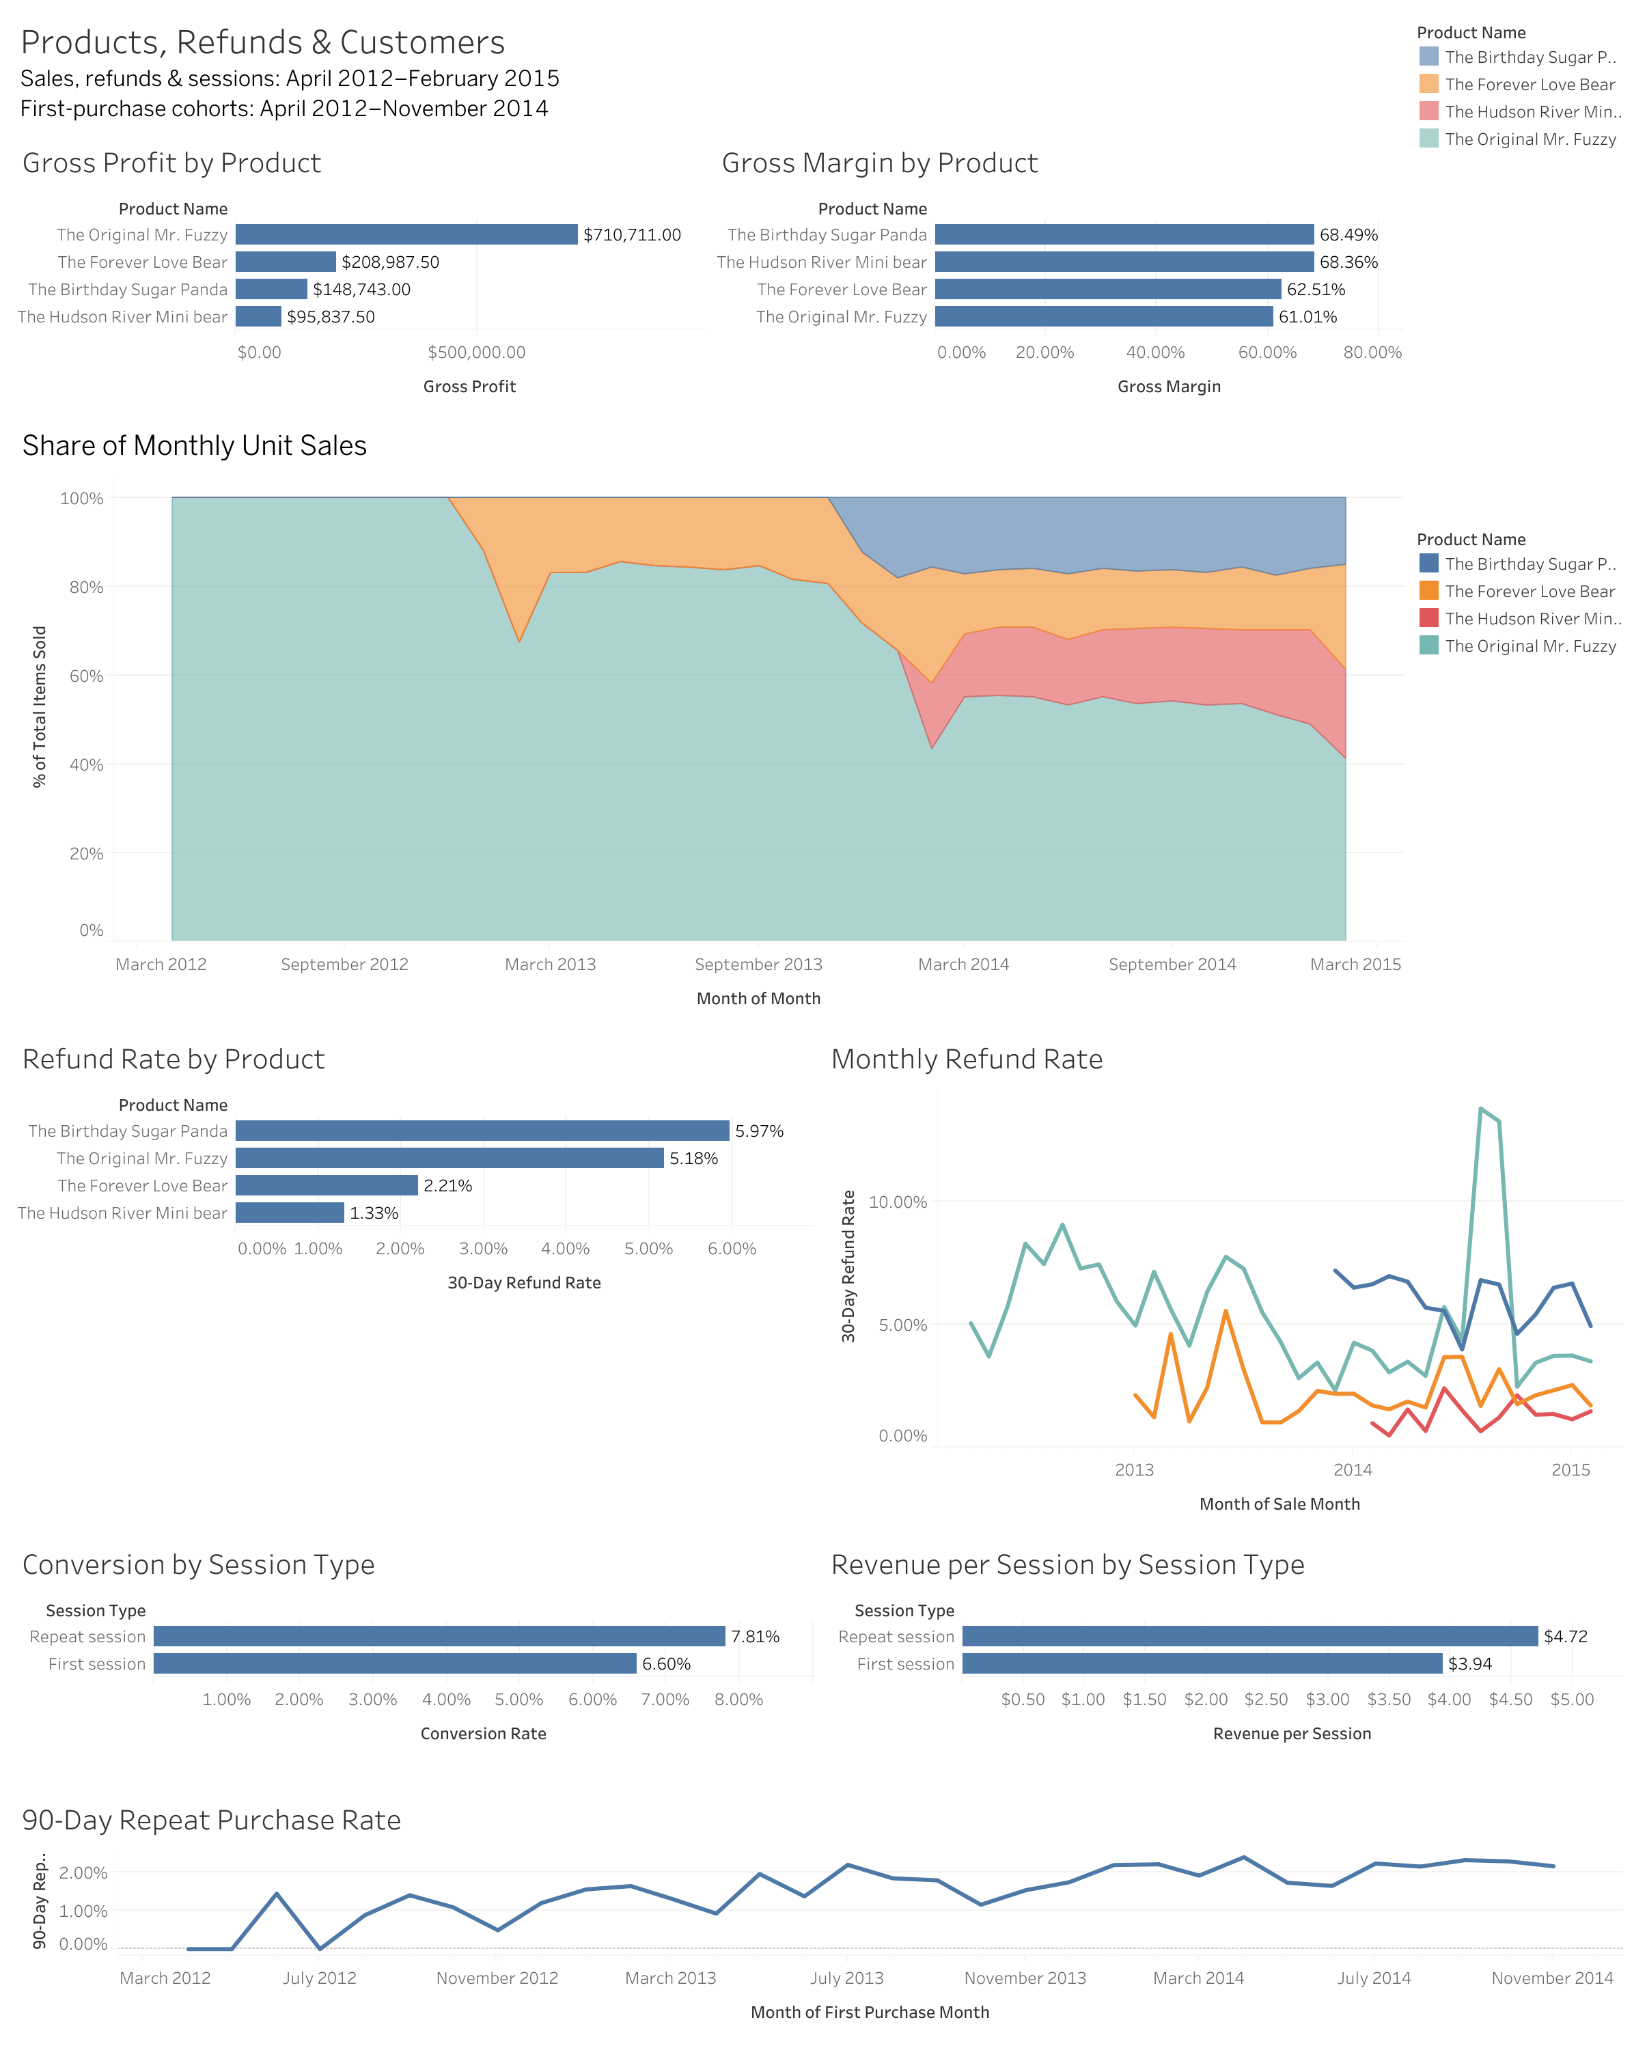

The page's visual inventory and layout, read from the dashboard file:
{"tool":"tableau","page":{"name":"Products, Refunds & Customers","canvas":[1200,1500],"ordinal":2},"visuals":[{"type":"title","box":[8,8,1024,84]},{"type":"legend","title":"Monthly Product Mix","param":"[federated.113vwsw1l5525z176x46m0vbh8fj].[none:product_name:nk]","box":[1032,8,160,371]},{"type":"worksheet","title":"Gross Profit by Product","mark":"Bar","rows":["product_name"],"cols":["gross_profit"],"box":[8,92,512,206]},{"type":"worksheet","title":"Gross Margin by Product","mark":"Bar","rows":["product_name"],"cols":["Calculation_1429470721874976768"],"box":[520,92,512,206]},{"type":"worksheet","title":"Monthly Product Mix","mark":"Area","cols":["month"],"box":[8,298,1024,452]},{"type":"legend","title":"Monthly Refund Rate","param":"[federated.1uwvor81ezimtr1dkybbu1ep9lfs].[none:product_name:nk]","box":[1032,379,160,371]},{"type":"worksheet","title":"Refund Rate by Product","mark":"Bar","rows":["product_name"],"cols":["Calculation_96264495799029760"],"box":[8,750,592,370]},{"type":"worksheet","title":"Monthly Refund Rate","mark":"Line","rows":["Calculation_96264495799029760"],"cols":["sale_month"],"box":[600,750,592,370]},{"type":"worksheet","title":"Conversion by Session Type","mark":"Bar","rows":["session_type"],"cols":["Calculation_355010368442077184"],"box":[8,1120,592,187]},{"type":"worksheet","title":"Revenue per Session by Session Type","mark":"Bar","rows":["session_type"],"cols":["Calculation_355010368443686913"],"box":[600,1120,592,187]},{"type":"worksheet","title":"90-Day Repeat Purchase Rate","mark":"Line","rows":["Calculation_326933240249954305"],"cols":["first_purchase_month"],"box":[8,1307,1184,185]}]}

Visuals, with their boxes in screenshot pixels (x1, y1, x2, y2), scaled from the page's 1200x1500 canvas onto the 1638x2047 screenshot:
title: x1=11 y1=11 x2=1409 y2=126
"Monthly Product Mix" legend: x1=1409 y1=11 x2=1627 y2=517
"Gross Profit by Product" worksheet (Bar marks): x1=11 y1=126 x2=710 y2=407
"Gross Margin by Product" worksheet (Bar marks): x1=710 y1=126 x2=1409 y2=407
"Monthly Product Mix" worksheet (Area marks): x1=11 y1=407 x2=1409 y2=1024
"Monthly Refund Rate" legend: x1=1409 y1=517 x2=1627 y2=1024
"Refund Rate by Product" worksheet (Bar marks): x1=11 y1=1024 x2=819 y2=1528
"Monthly Refund Rate" worksheet (Line marks): x1=819 y1=1024 x2=1627 y2=1528
"Conversion by Session Type" worksheet (Bar marks): x1=11 y1=1528 x2=819 y2=1784
"Revenue per Session by Session Type" worksheet (Bar marks): x1=819 y1=1528 x2=1627 y2=1784
"90-Day Repeat Purchase Rate" worksheet (Line marks): x1=11 y1=1784 x2=1627 y2=2036
